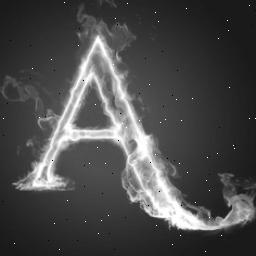a: (14, 14, 162, 192)
